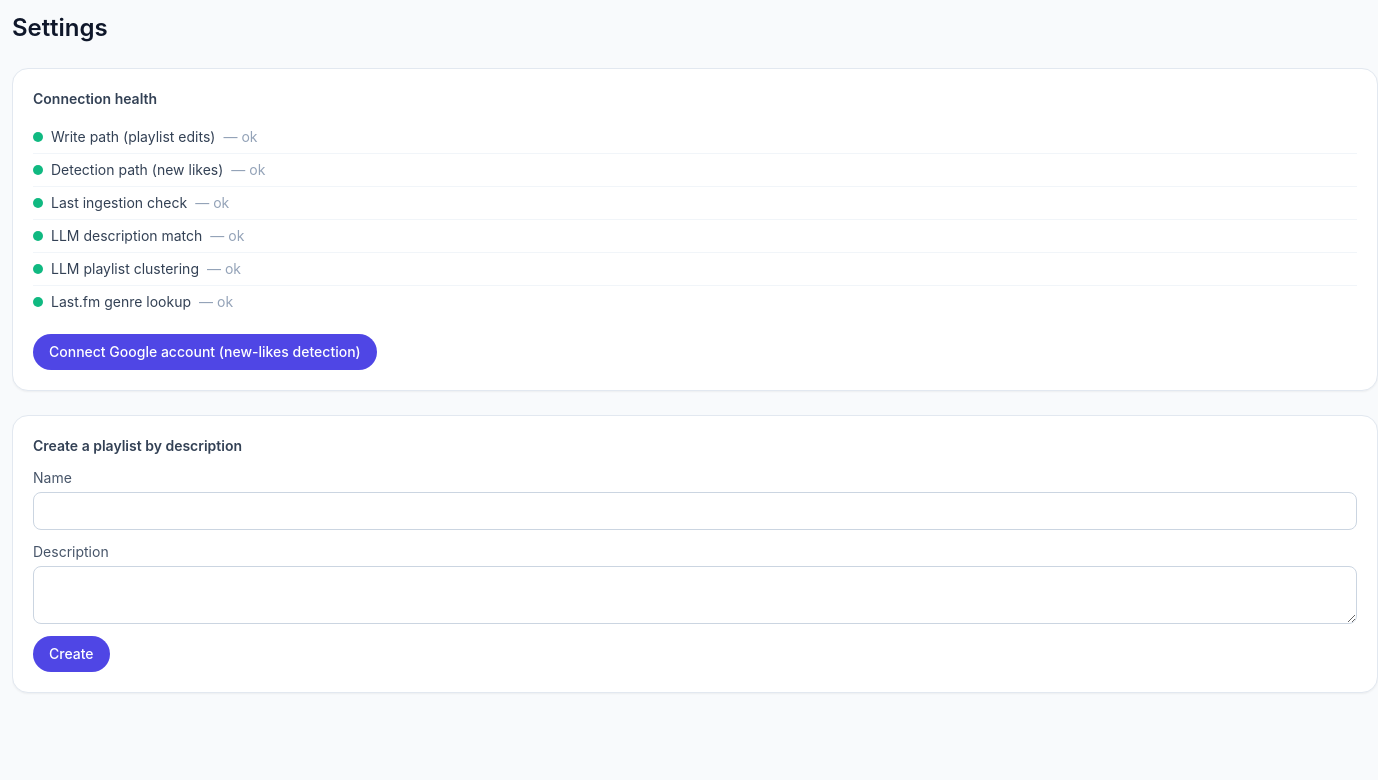
Settings › shows the error message when creating a playlist fails
Expected: the text "Write path (playlist edits)" is shown, 51,127 -> 216,147
Type "Road Trip" into the field labelled "Name" at (695, 511), box 33,492 -> 1357,530
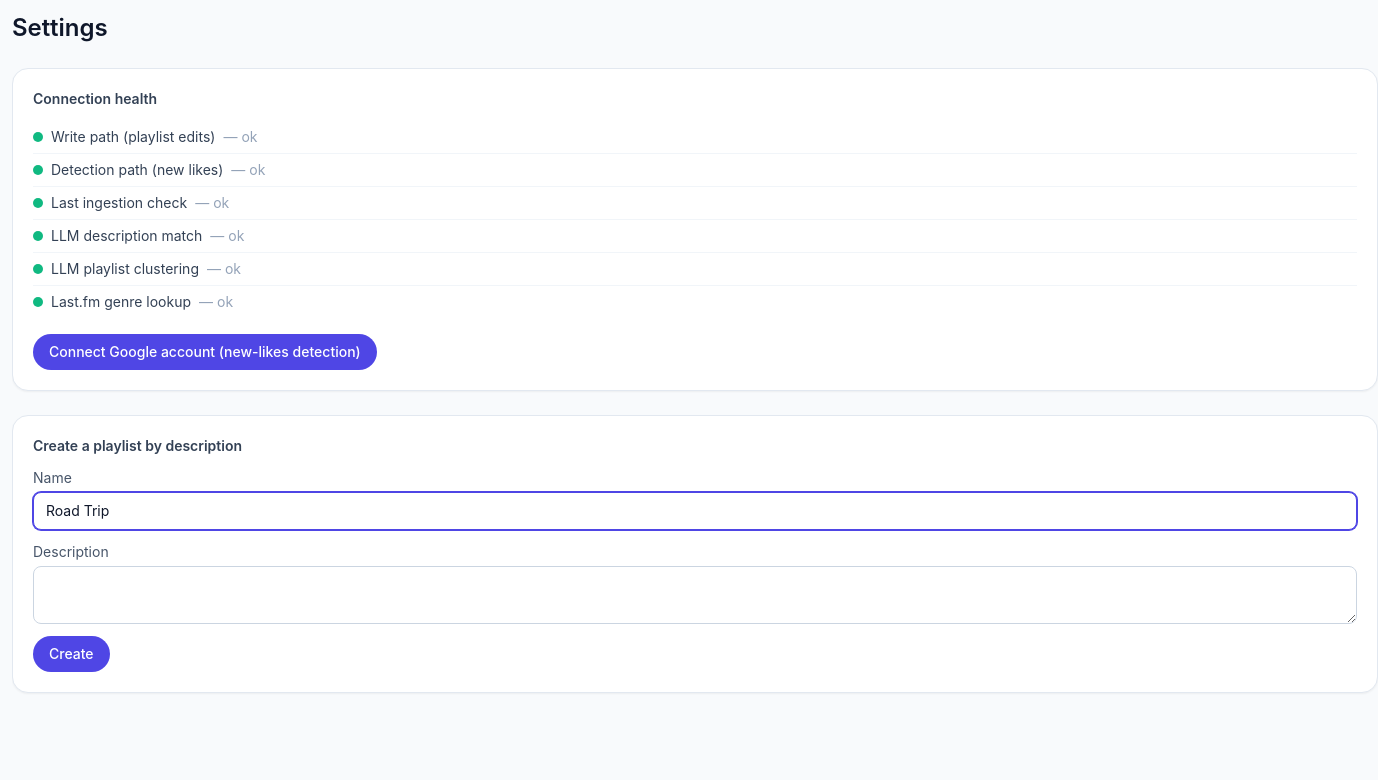
Type "songs for driving" into the text box labelled "Description" at (695, 595), box 33,566 -> 1357,624
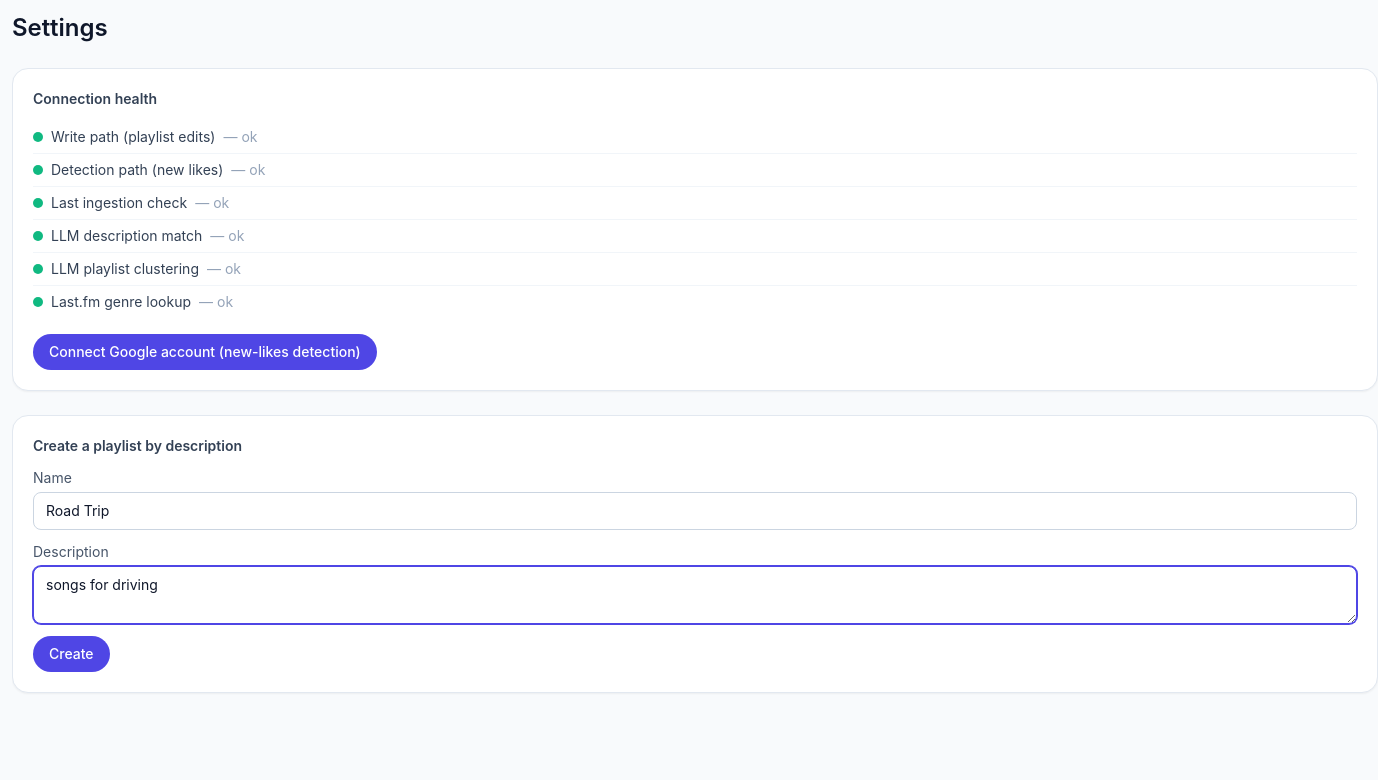
Click the button "Create" at (71, 654), box 33,636 -> 110,672
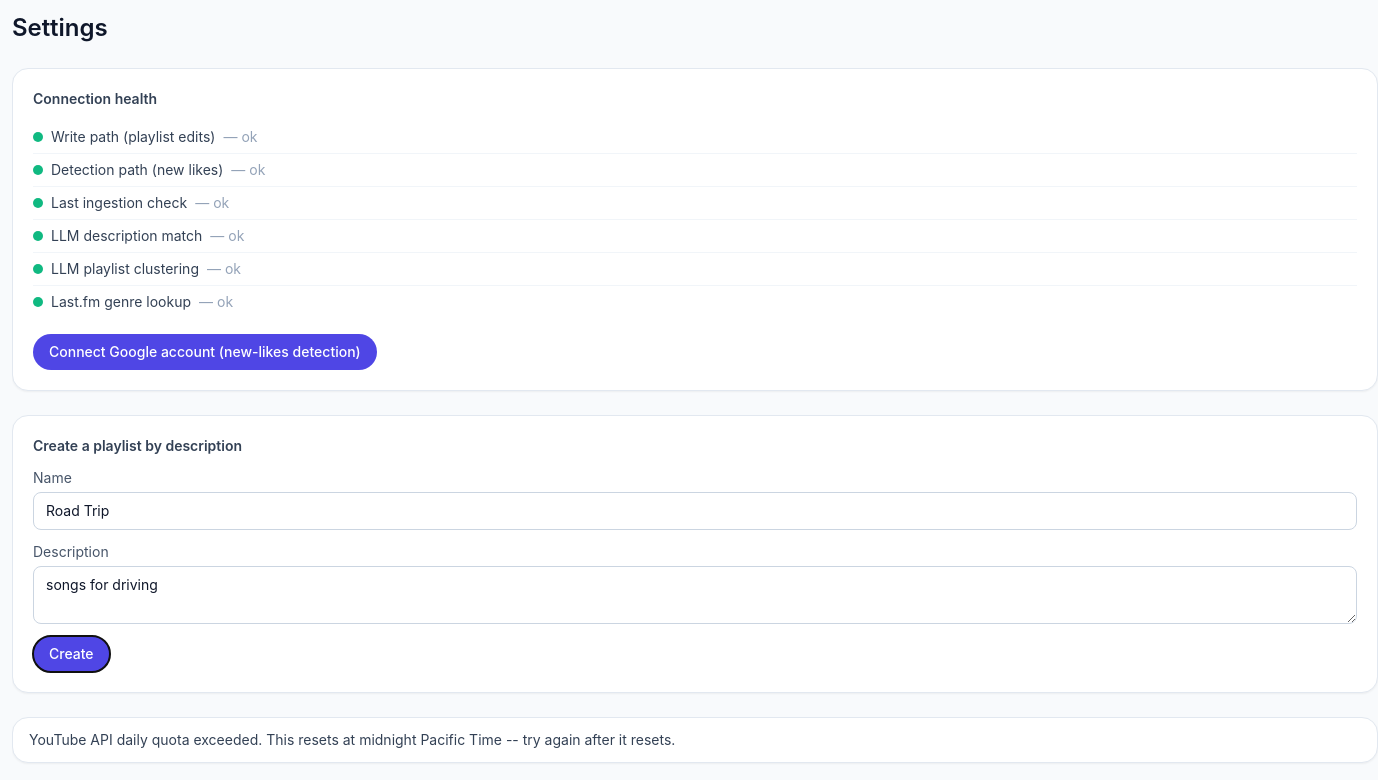
Expected: the message shows "YouTube API daily quota exceeded. This resets at midnight Pacific Time -- try again after it resets.", 29,731 -> 675,748
